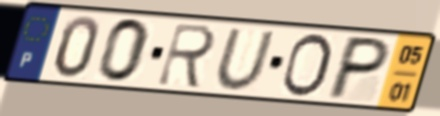0: (94, 18, 156, 85), (52, 14, 103, 81)
O: (278, 31, 335, 99)
P: (322, 34, 394, 102)
R: (154, 21, 220, 91)
U: (213, 27, 278, 93)
